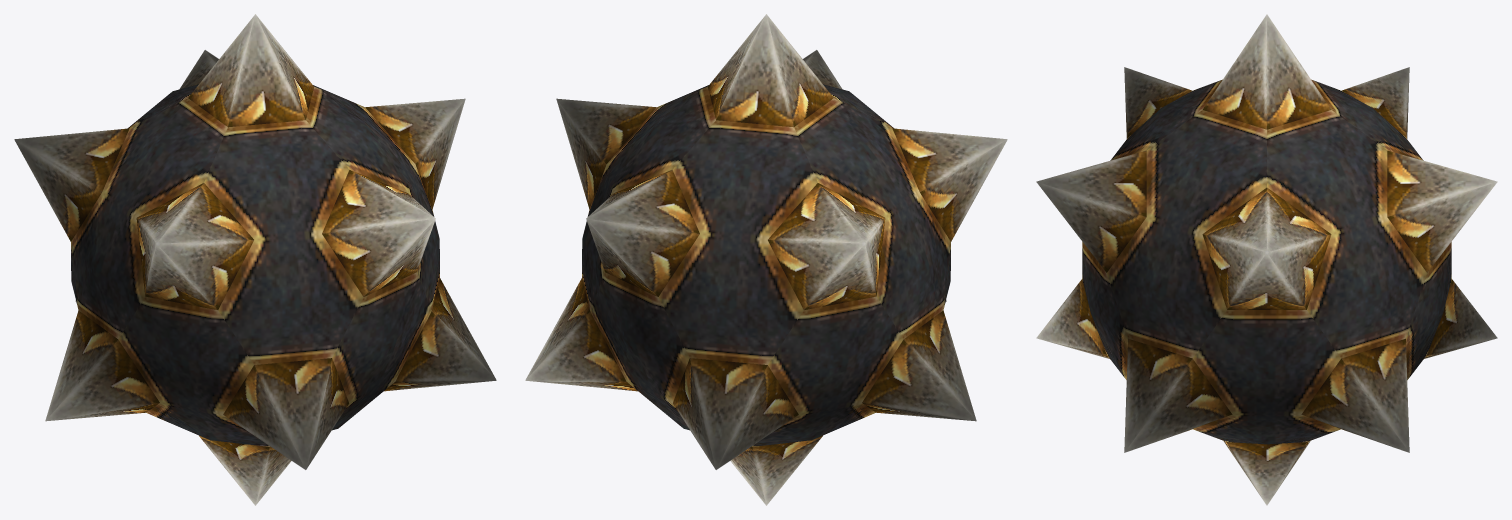
Rendered from SpikeBall.gltf.
The picture shows the model from 3 angles, left to right: view 1: azimuth 30°, elevation 25°; view 2: azimuth 150°, elevation 25°; view 3: azimuth 270°, elevation 25°; orthographic projection.
Visible parts, largest first — view 1: SpikeBall; view 2: SpikeBall; view 3: SpikeBall.
Part boxes in pixels (left/top/right/bottom): SpikeBall: left=14, top=14, right=496, bottom=505; SpikeBall: left=525, top=14, right=1007, bottom=505; SpikeBall: left=1036, top=14, right=1497, bottom=505.
Size of the model in its own units: 2.18 by 2.44 by 2.07.
Materials: 1 (1 with a texture image).
